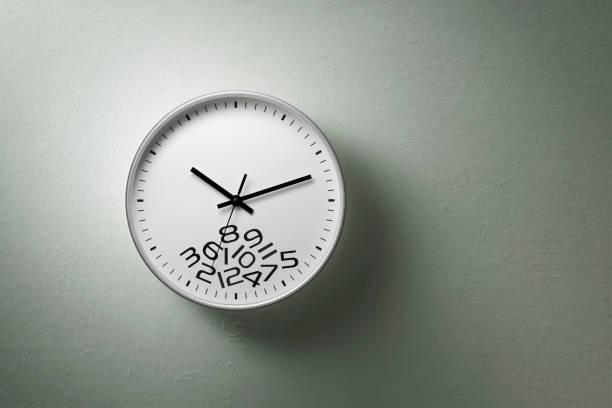clock: (125, 94, 351, 311)
